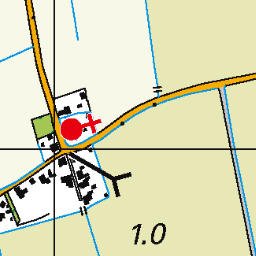church: (58, 109, 102, 145)
